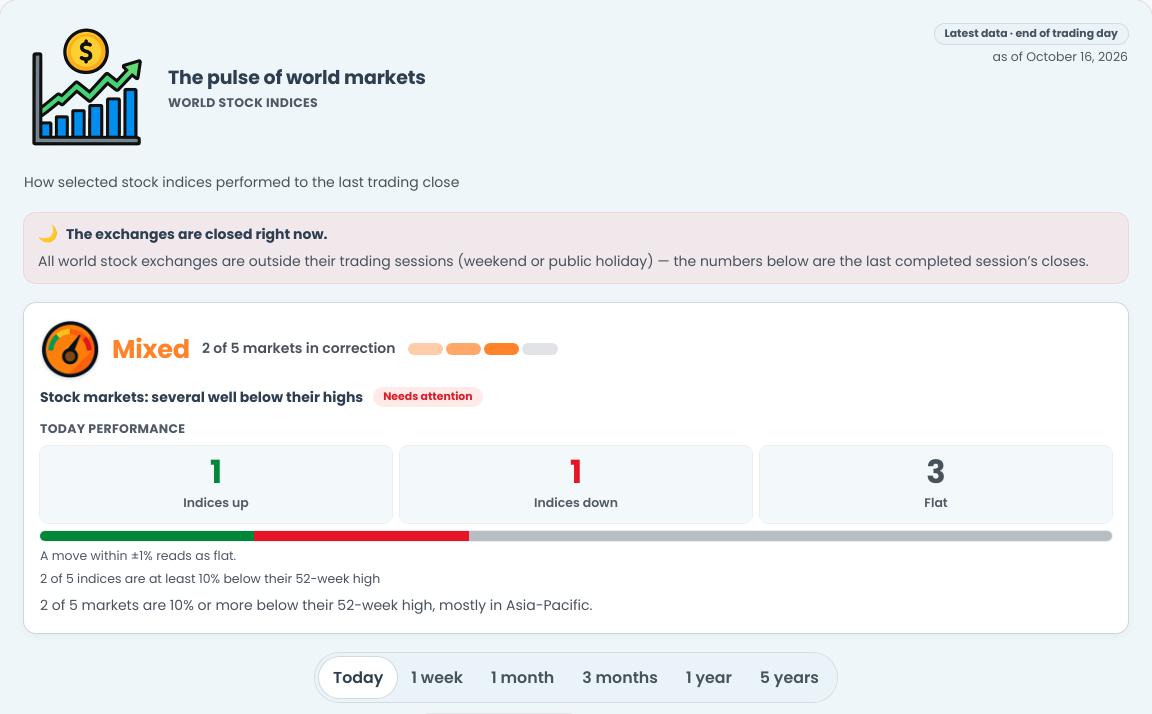
the period control — one selection, every surface follows › the monthly lens: kospi carries no chg1m — the tile shows the honest dash and the coverage note lowers the denominator
Click the radio button labelled "1 month" at [523, 678], box [477,657,568,698]
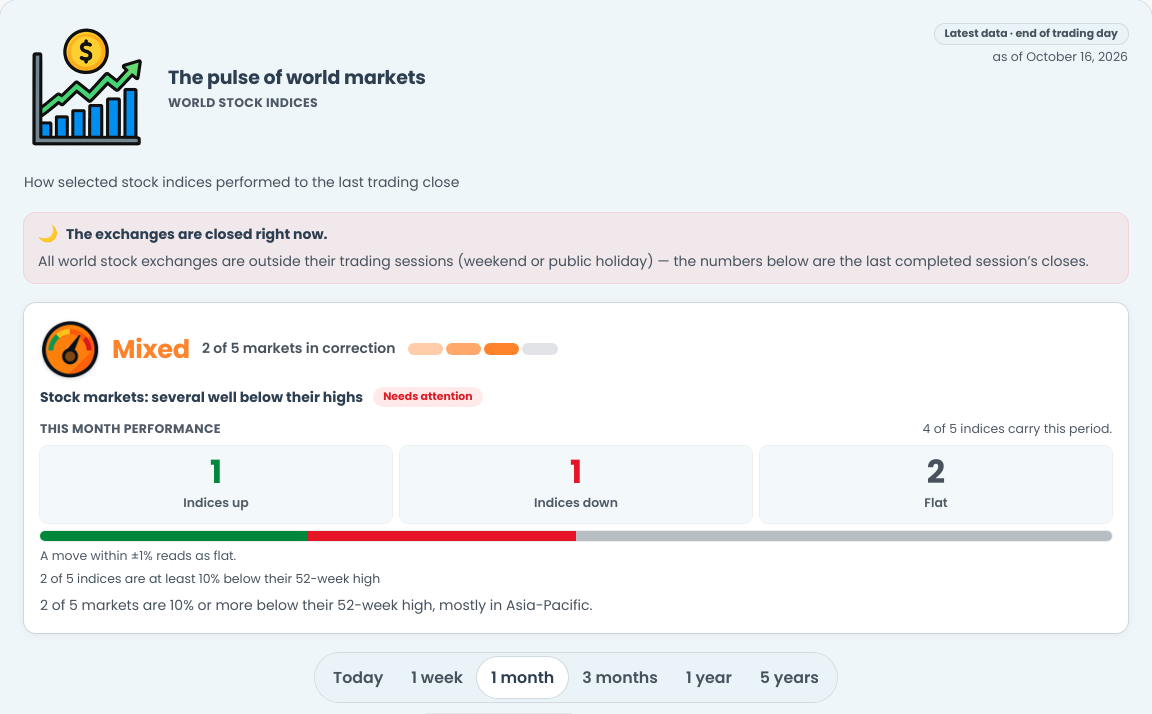
Check: the text "4 of 5 indices carry this period." is shown, box [923,420,1112,436]
